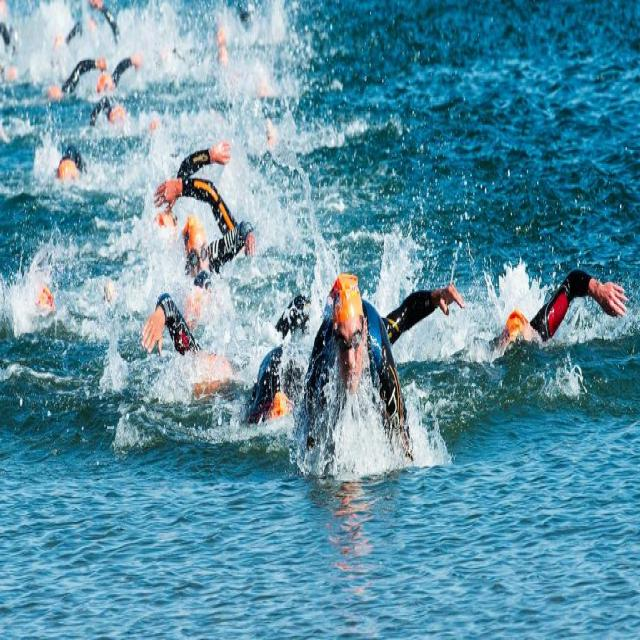nomask: (337, 314, 362, 394), (187, 233, 208, 286)
